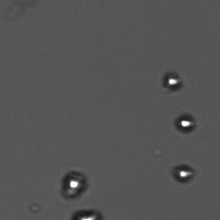Living Cell: (61, 165, 97, 196), (168, 162, 199, 191), (159, 66, 186, 93), (173, 111, 202, 136)
